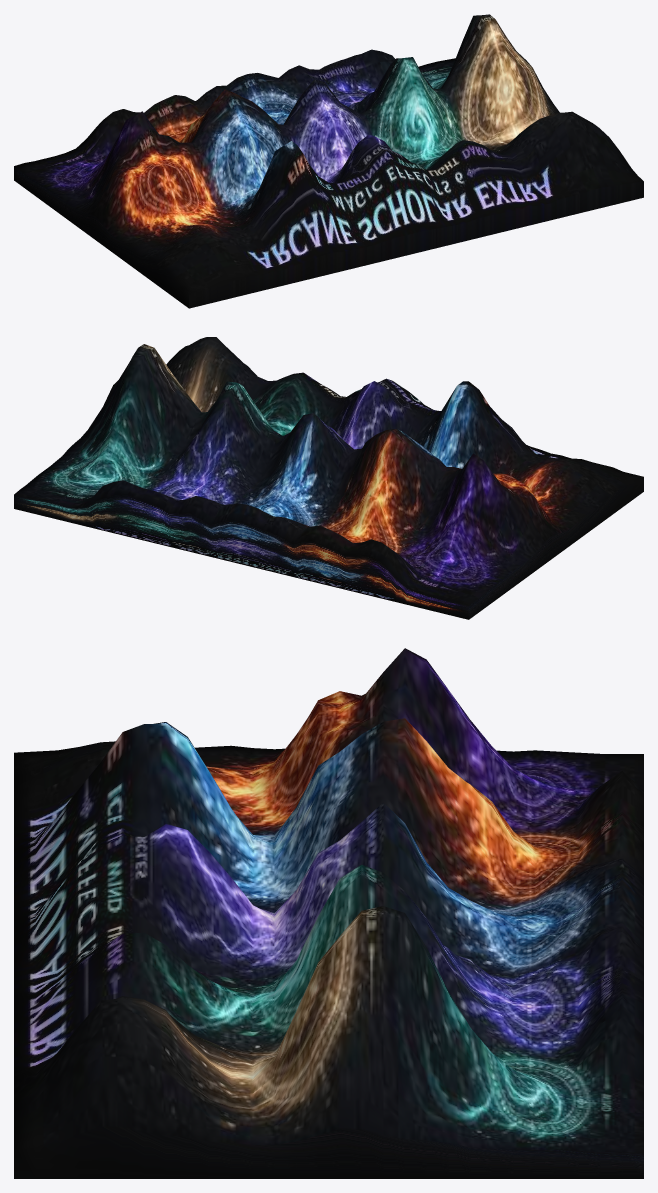
Rendered from EXTRA_Magic_Effects_6.glb.
The picture shows the model from 3 angles, top to bottom: view 1: azimuth 30°, elevation 25°; view 2: azimuth 150°, elevation 25°; view 3: azimuth 270°, elevation 25°; orthographic projection. The views are drawn at different scales.
Visible parts, largest first — view 1: EXTRA_Magic_Effects_6; view 2: EXTRA_Magic_Effects_6; view 3: EXTRA_Magic_Effects_6.
Boxes of the visible parts, <box> form: EXTRA_Magic_Effects_6: <box>14,14,643,308</box>; EXTRA_Magic_Effects_6: <box>14,337,643,619</box>; EXTRA_Magic_Effects_6: <box>14,648,643,1178</box>.
Size of the model in its own units: 2 by 0.51 by 1.33.
Materials: 1 (1 with a texture image).
